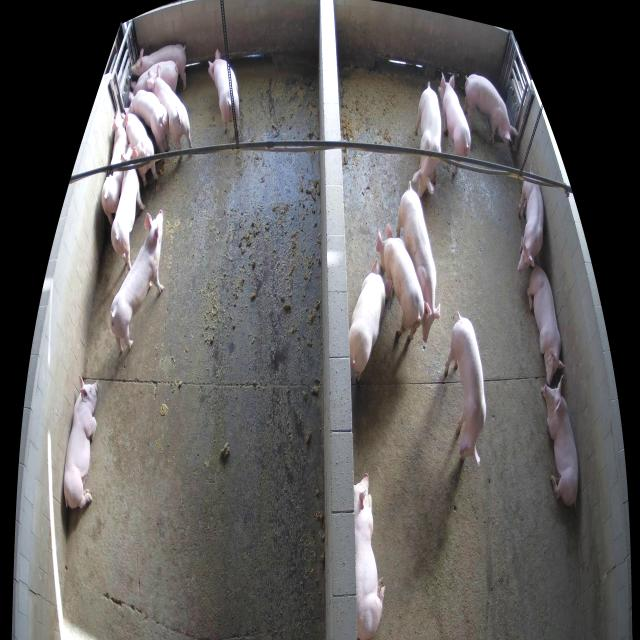pig: (110, 208, 165, 353), (396, 181, 440, 343), (444, 312, 486, 468), (376, 224, 424, 339), (348, 258, 391, 381), (354, 473, 385, 638), (540, 375, 578, 505), (527, 265, 565, 384), (147, 65, 194, 161), (64, 377, 98, 508), (111, 145, 145, 270), (464, 74, 517, 144), (438, 72, 471, 176), (412, 81, 441, 198), (101, 111, 128, 227), (124, 90, 171, 153), (122, 113, 159, 186), (209, 47, 240, 132), (131, 44, 186, 90), (518, 180, 544, 271), (130, 61, 179, 95)
